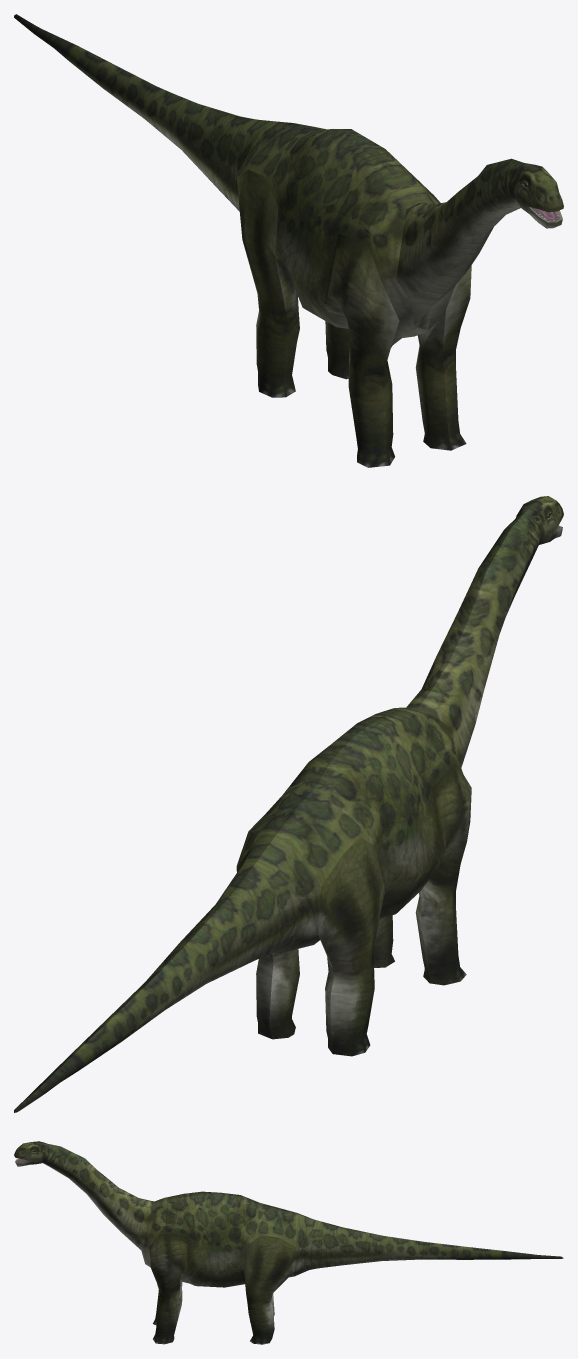
Rendered from cama.obj.
The picture shows the model from 3 angles, top to bottom: view 1: azimuth 30°, elevation 25°; view 2: azimuth 150°, elevation 25°; view 3: azimuth 270°, elevation 25°; orthographic projection. The views are drawn at different scales.
Visible parts, largest first — view 1: cama; view 2: cama; view 3: cama.
Boxes of the visible parts, bbox=[...] form: cama: bbox=[14, 14, 563, 467]; cama: bbox=[14, 496, 563, 1112]; cama: bbox=[14, 1141, 563, 1344].
Size of the model in its own units: 1.97 by 5.51 by 14.54.
1 material, 1 textured.
